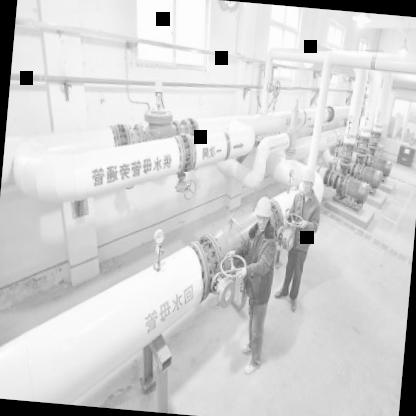helmet: (253, 193, 274, 237), (299, 165, 317, 200)
